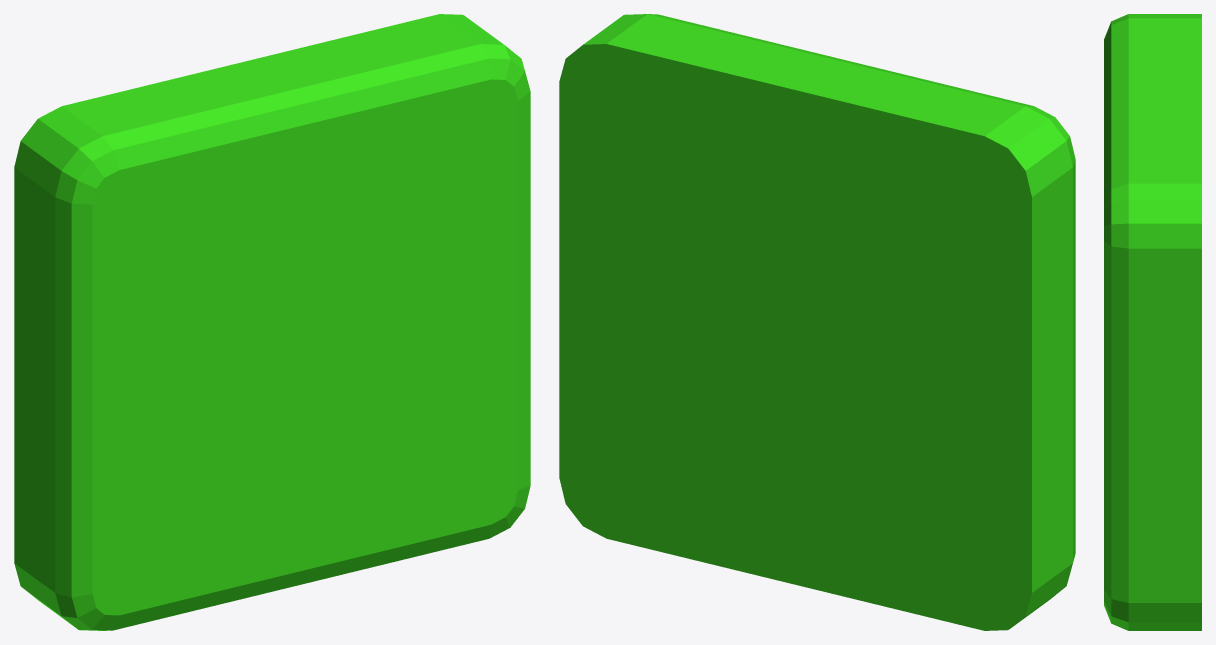
Rendered from wallPanel_sm.fbx.
The picture shows the model from 3 angles, left to right: view 1: azimuth 30°, elevation 25°; view 2: azimuth 150°, elevation 25°; view 3: azimuth 270°, elevation 25°; orthographic projection. The views are drawn at different scales.
Parts seen in each view (by area): view 1: wallPanel_sm; view 2: wallPanel_sm; view 3: wallPanel_sm.
Part boxes in pixels (<box>): wallPanel_sm: <box>14,14,530,630</box>; wallPanel_sm: <box>559,14,1075,630</box>; wallPanel_sm: <box>1104,14,1201,630</box>.
Bounding box in the file's own units: 200 × 200 × 40.
